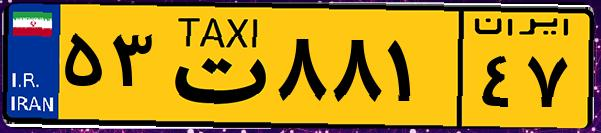1: (385, 28, 445, 110)
3: (110, 28, 158, 98)
4: (475, 38, 525, 113)
5: (57, 26, 110, 100)
7: (525, 38, 570, 115)
8: (270, 28, 330, 110), (330, 28, 385, 110)
ت: (158, 12, 270, 120)
